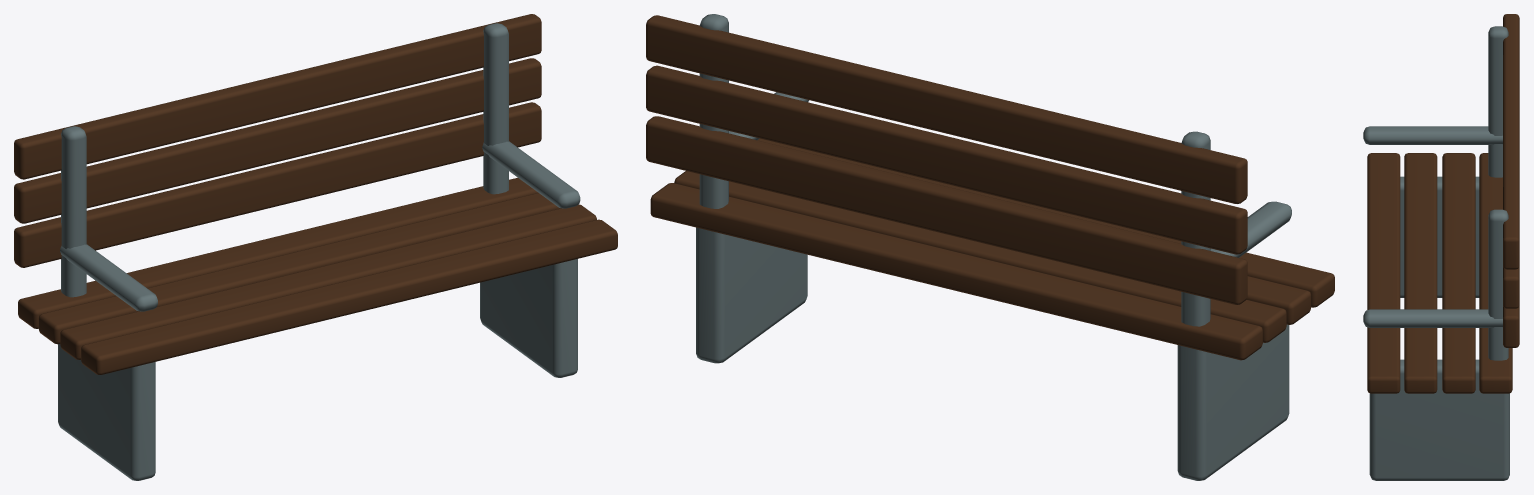
Rendered from bench.glb.
3 views of the same model, side by side, from view 1: azimuth 30°, elevation 25°; view 2: azimuth 150°, elevation 25°; view 3: azimuth 270°, elevation 25° (orthographic). The views are drawn at different scales.
Visible parts, largest first — view 1: bench_Body; view 2: bench_Body; view 3: bench_Body.
Part boxes in pixels (left/top/right/bottom): bench_Body: left=14, top=14, right=617, bottom=480; bench_Body: left=646, top=14, right=1334, bottom=480; bench_Body: left=1363, top=14, right=1519, bottom=480.
Size of the model in its own units: 2.1 by 1.15 by 0.6125.
